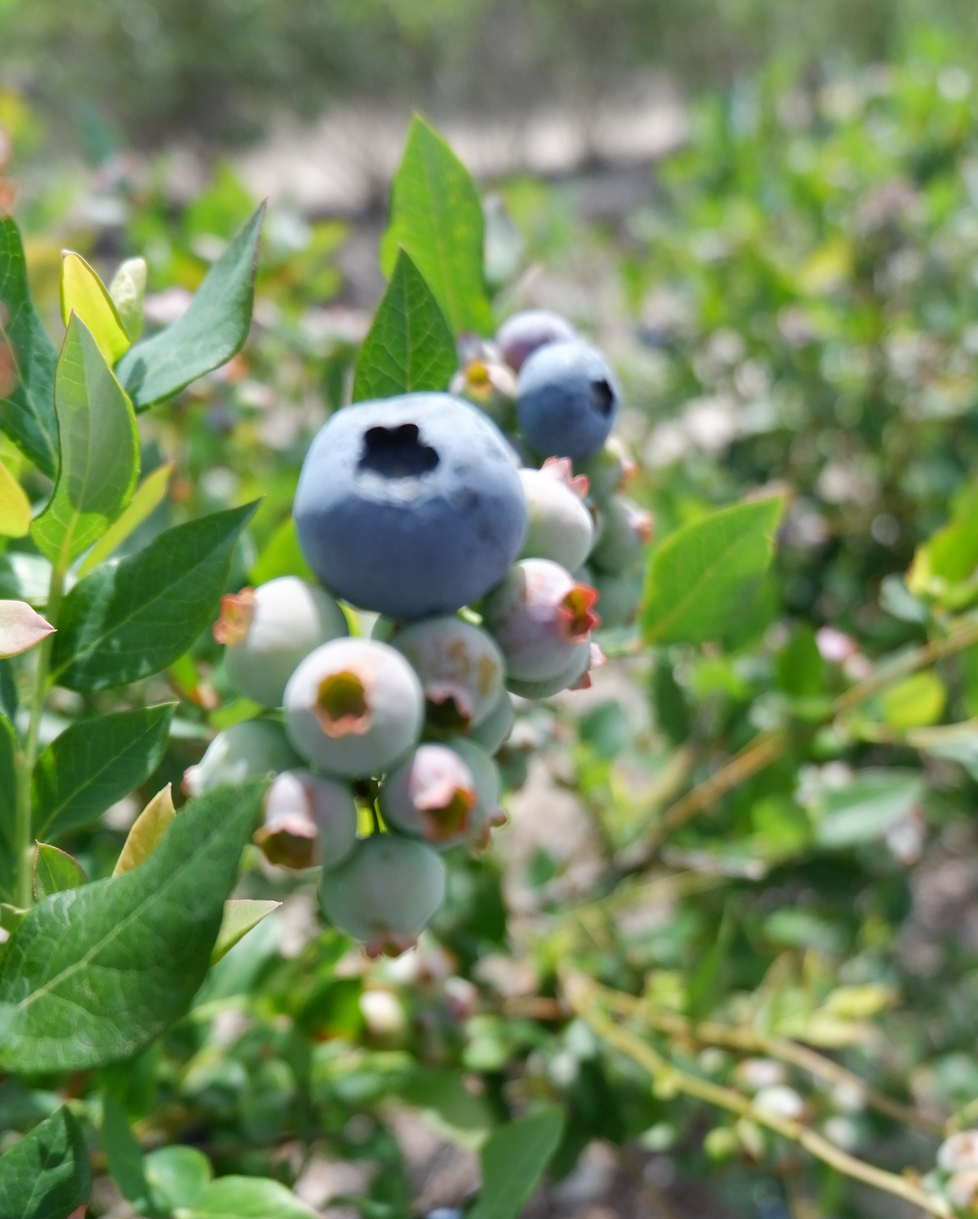Immature: (286, 640, 421, 777), (217, 580, 341, 705), (320, 838, 443, 953), (393, 619, 503, 739), (484, 560, 595, 677), (381, 747, 475, 850), (261, 771, 353, 872), (520, 461, 597, 569), (193, 721, 298, 794), (508, 643, 603, 699), (498, 311, 577, 373), (459, 742, 498, 851), (450, 363, 513, 429), (465, 692, 512, 753)
Mature: (299, 397, 521, 616), (520, 342, 619, 460)
